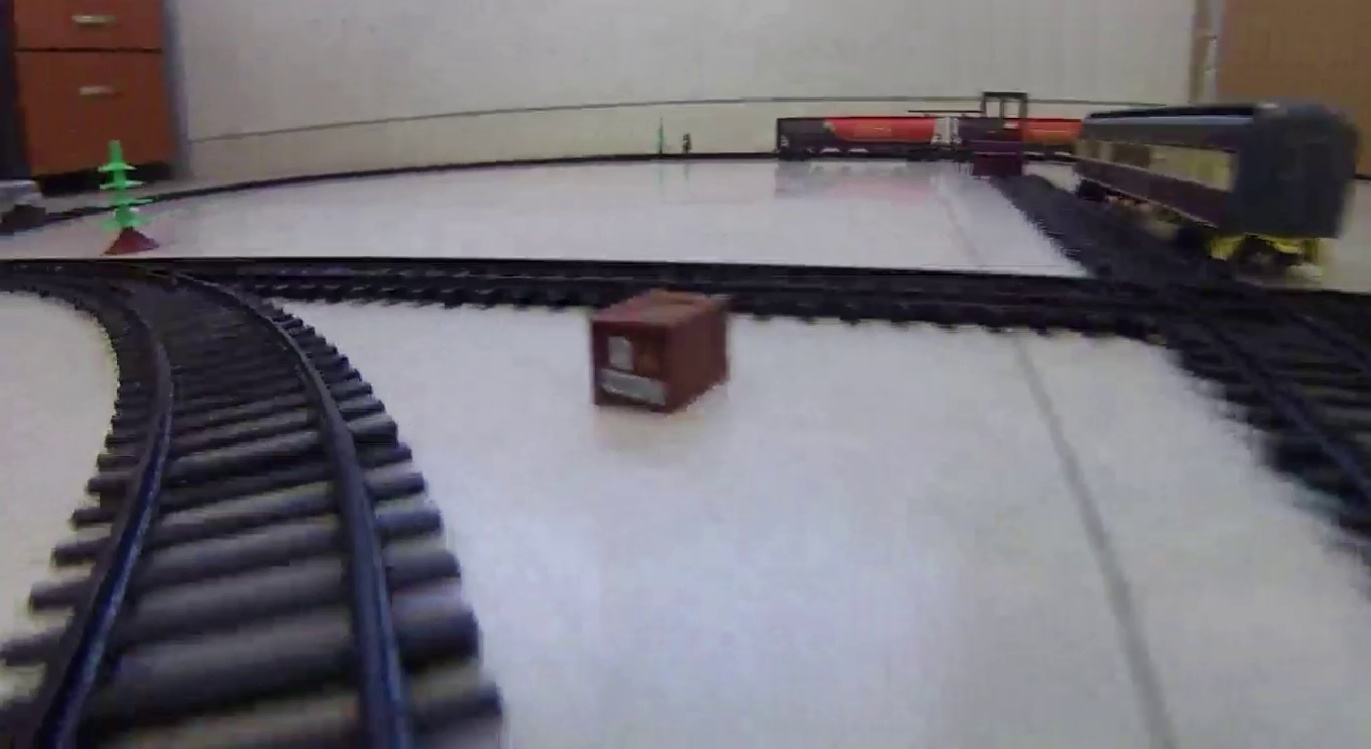box: (590, 291, 732, 416)
